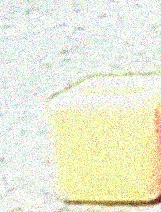yellow_cube: (43, 70, 161, 204)
